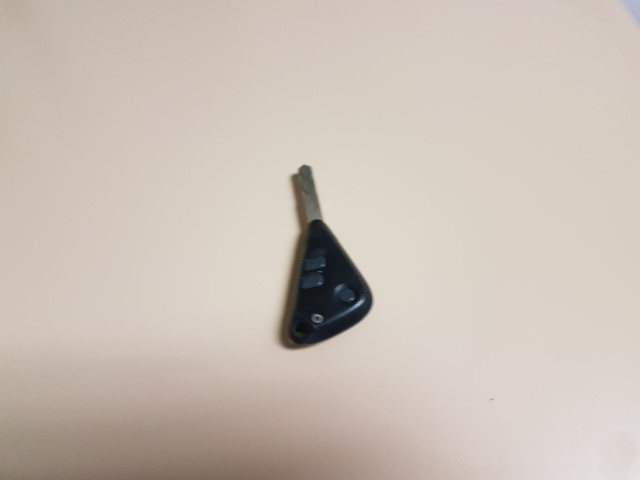key: (288, 164, 375, 346)
